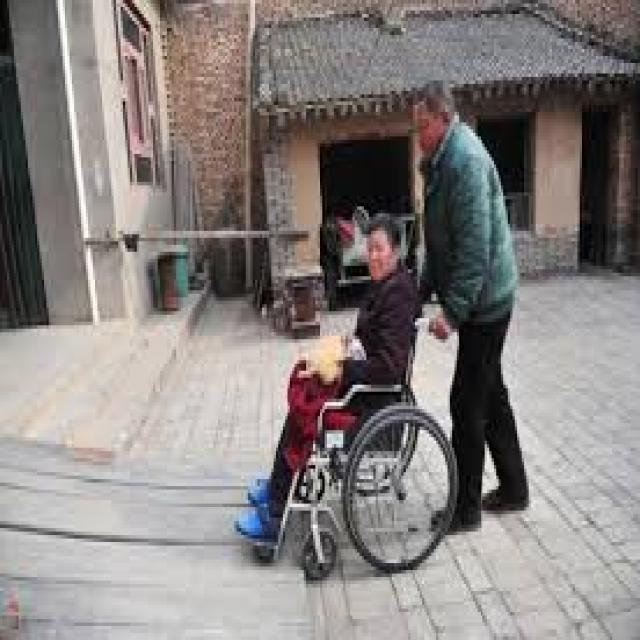wheelchairs: (241, 283, 466, 563)
